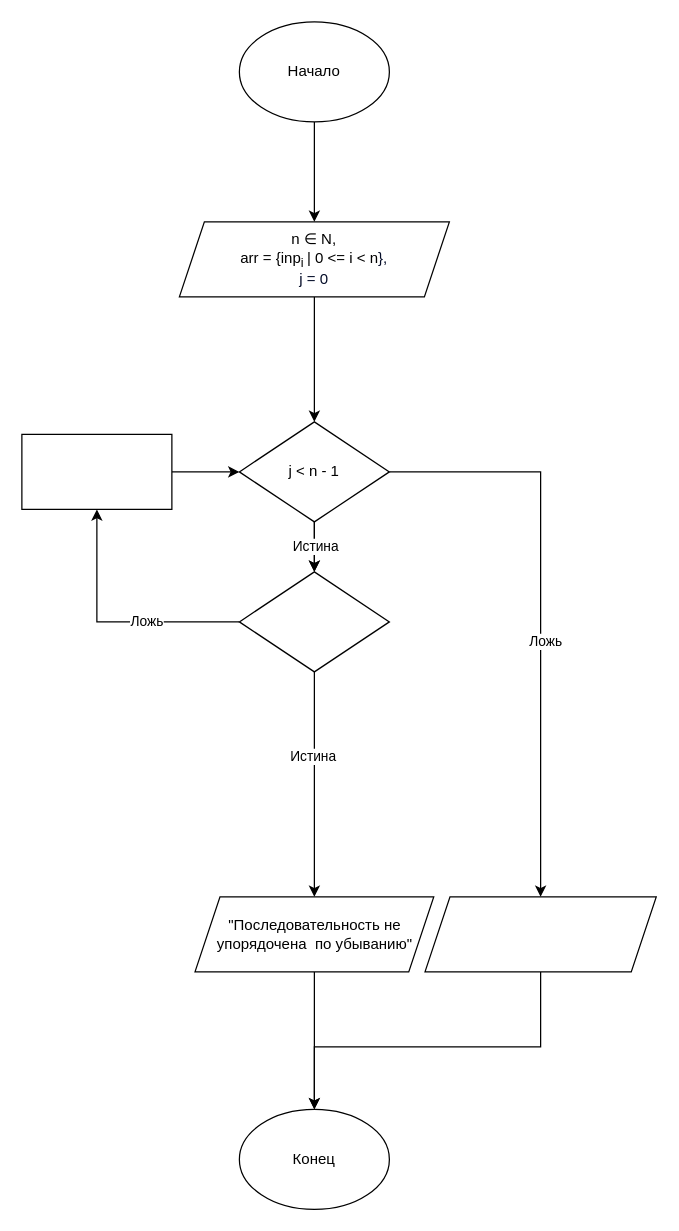
Some shapes in this 679 by 1231 pixel diagram are drawn without their labels. Each missing label, with the centre of its shape:
"Последовательность упорядочена по убыванию": (x=540, y=934)
arr[j] < arr[j+1]: (x=313, y=621)
j ++: (x=96, y=471)
